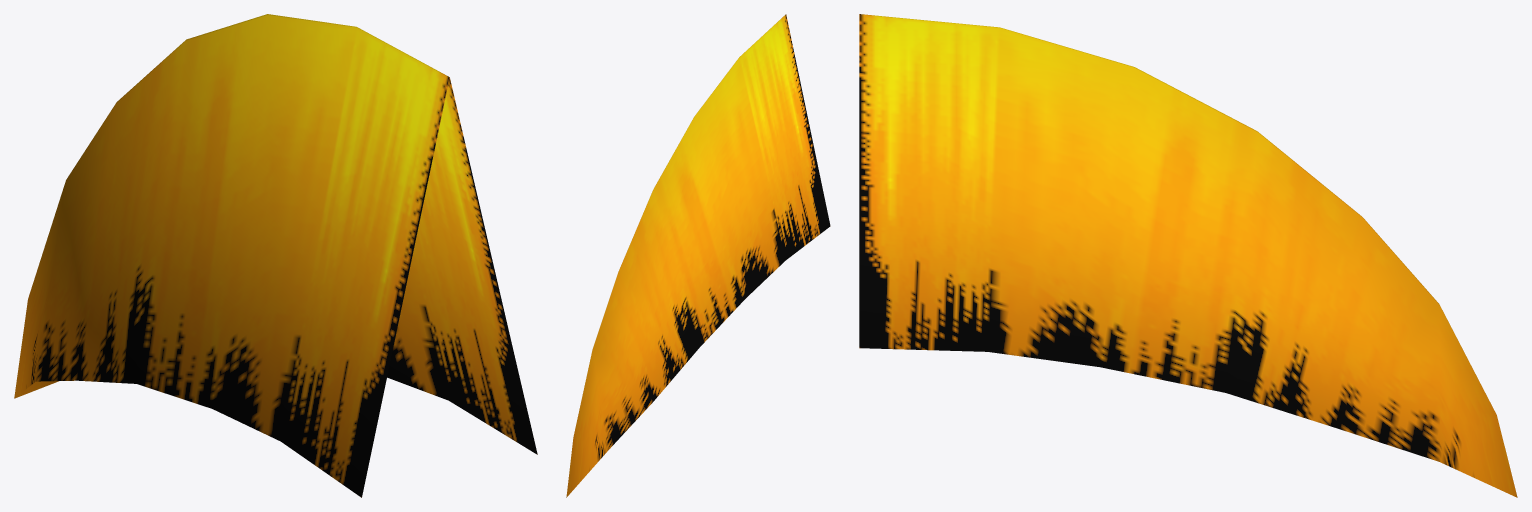
File: weapontrail.FBX
3 renders of one model, left to right at view 1: azimuth 30°, elevation 25°; view 2: azimuth 150°, elevation 25°; view 3: azimuth 270°, elevation 25°, orthographic. The views are drawn at different scales.
Parts seen in each view (by area): view 1: Cylinder001; view 2: Cylinder001; view 3: Cylinder001.
Boxes of the visible parts, <box> form: Cylinder001: <box>14,14,537,497</box>; Cylinder001: <box>566,14,830,497</box>; Cylinder001: <box>859,14,1517,497</box>.
Size of the model in its own units: 61.74 by 215 by 265.
